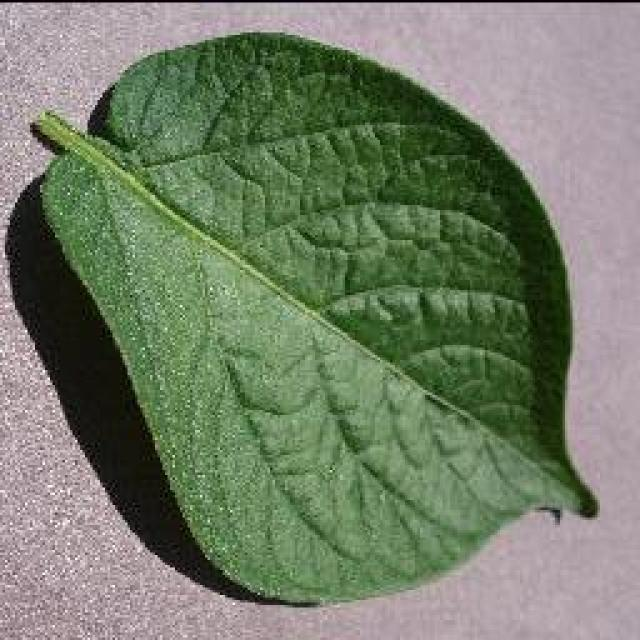Potato___healthy: (29, 27, 605, 607)
